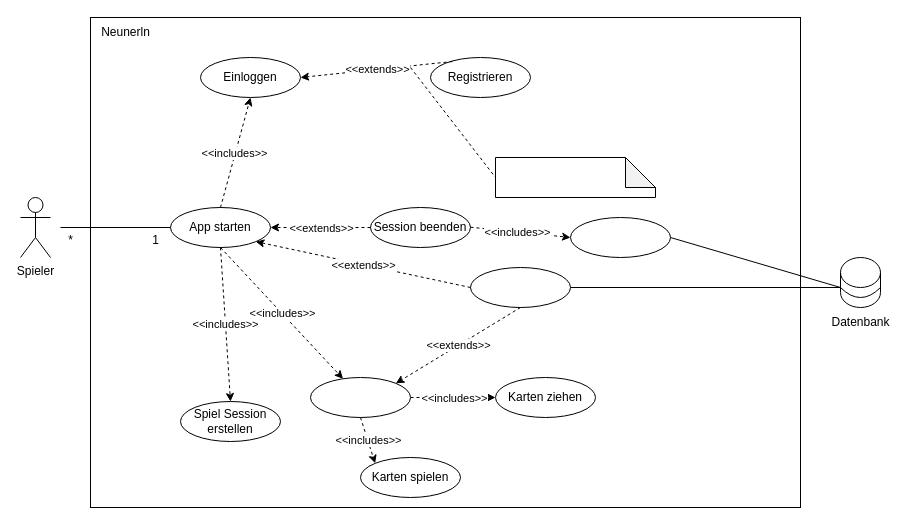
This 918x525 diagram has some shape labels left out. Each missing label, with the centre of its shape:
"Falls noch kein Account vorhanden" belongs at (575,177).
"Highscore abrufen" belongs at (520,287).
"Highscore aktualisieren" belongs at (620,237).
"Session spielen" belongs at (360,397).
